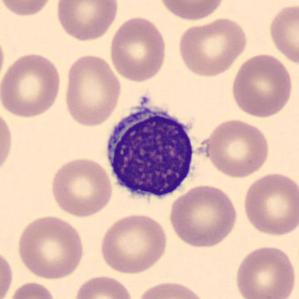Lymphocyte: (100, 98, 200, 205)
RBC: (15, 212, 85, 281), (167, 183, 240, 249), (175, 16, 250, 78), (62, 52, 123, 127), (229, 51, 295, 120), (98, 212, 170, 275), (202, 116, 272, 179), (0, 50, 63, 119), (107, 14, 169, 82), (48, 155, 114, 218), (241, 170, 298, 238), (233, 244, 297, 299), (53, 0, 121, 42), (266, 1, 298, 67), (72, 273, 136, 299), (155, 0, 228, 22), (133, 279, 208, 299), (0, 106, 15, 178), (0, 0, 57, 18), (6, 280, 58, 299), (0, 246, 15, 299), (0, 30, 6, 91)
